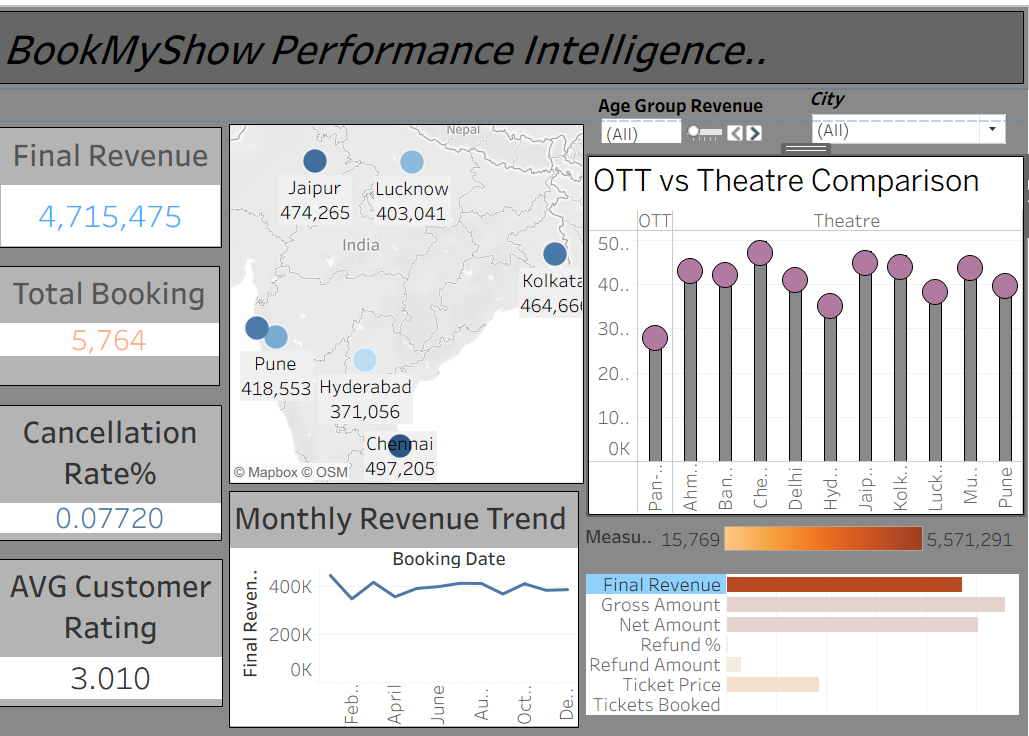

Layout of this report page (visuals, bound fields, positions):
{"tool":"tableau","page":{"name":"Dashboard 1","canvas":[1000,1000],"units":"permille","ordinal":0},"visuals":[{"type":"title","box":[7.6,14.3,984.8,144.7]},{"type":"filter","title":"KPI 1","param":"[federated.13jyk3h17ibtqc1h0a8vr1dxje9e].[none:City:nk]","box":[795.2,21.4,190.5,92.9]},{"type":"filter","title":"Sheet 13","param":"[federated.13jyk3h17ibtqc1h0a8vr1dxje9e].[none:Calculation_0067112482054153:nk]","box":[623.8,23.2,160,133.9]},{"type":"worksheet","title":"Sheet 13","mark":"Automatic","box":[7.6,158.9,984.8,57.1]},{"type":"worksheet","title":"Sheet 10","mark":"Automatic","box":[231.4,167.9,338.1,482.1]},{"type":"worksheet","title":"OTT vs Theatre Comparison","mark":"Circle","rows":["Final_Revenue","Final_Revenue"],"cols":["Platform_Type","City"],"box":[573.3,167.9,415.2,480.4]},{"type":"worksheet","title":"KPI 1","mark":"Automatic","box":[12.4,171.4,212.4,162.5]},{"type":"worksheet","title":"KPI2","mark":"Automatic","box":[11.4,357.1,211.4,160.7]},{"type":"worksheet","title":"KPI3","mark":"Automatic","box":[11.4,542.9,213.3,182.1]},{"type":"legend","title":"Sheet 12","param":"[federated.13jyk3h17ibtqc1h0a8vr1dxje9e].[Multiple Values]","box":[572.4,655.4,412.4,69.6]},{"type":"worksheet","title":"Monthly Revenue","mark":"Automatic","rows":["Final_Revenue"],"cols":["Booking_Date"],"box":[231.4,658.9,333.3,317.9]},{"type":"legend","title":"Monthly Revenue","param":"[Parameters].[Parameter 2]","box":[449.5,662.5,112.4,67.9]},{"type":"worksheet","title":"Sheet 12","mark":"Automatic","box":[572.4,705.4,412.4,267.9]},{"type":"worksheet","title":"KPI5","mark":"Automatic","box":[11.4,750,214.3,198.2]}]}

Visuals, with their boxes on the dashboard's canvas, which has no fixed pixel size, in thousandths of its width and height (x1, y1, x2, y2). These are canvas units, not pixel positions in the 1029x736 screenshot, which may show the page scaled, cropped or inside an application window:
title: <bbox>8, 14, 992, 159</bbox>
"KPI 1" filter: <bbox>795, 21, 986, 114</bbox>
"Sheet 13" filter: <bbox>624, 23, 784, 157</bbox>
"Sheet 13" worksheet: <bbox>8, 159, 992, 216</bbox>
"Sheet 10" worksheet: <bbox>231, 168, 570, 650</bbox>
"OTT vs Theatre Comparison" worksheet (Circle marks): <bbox>573, 168, 988, 648</bbox>
"KPI 1" worksheet: <bbox>12, 171, 225, 334</bbox>
"KPI2" worksheet: <bbox>11, 357, 223, 518</bbox>
"KPI3" worksheet: <bbox>11, 543, 225, 725</bbox>
"Sheet 12" legend: <bbox>572, 655, 985, 725</bbox>
"Monthly Revenue" worksheet: <bbox>231, 659, 565, 977</bbox>
"Monthly Revenue" legend: <bbox>450, 662, 562, 730</bbox>
"Sheet 12" worksheet: <bbox>572, 705, 985, 973</bbox>
"KPI5" worksheet: <bbox>11, 750, 226, 948</bbox>
